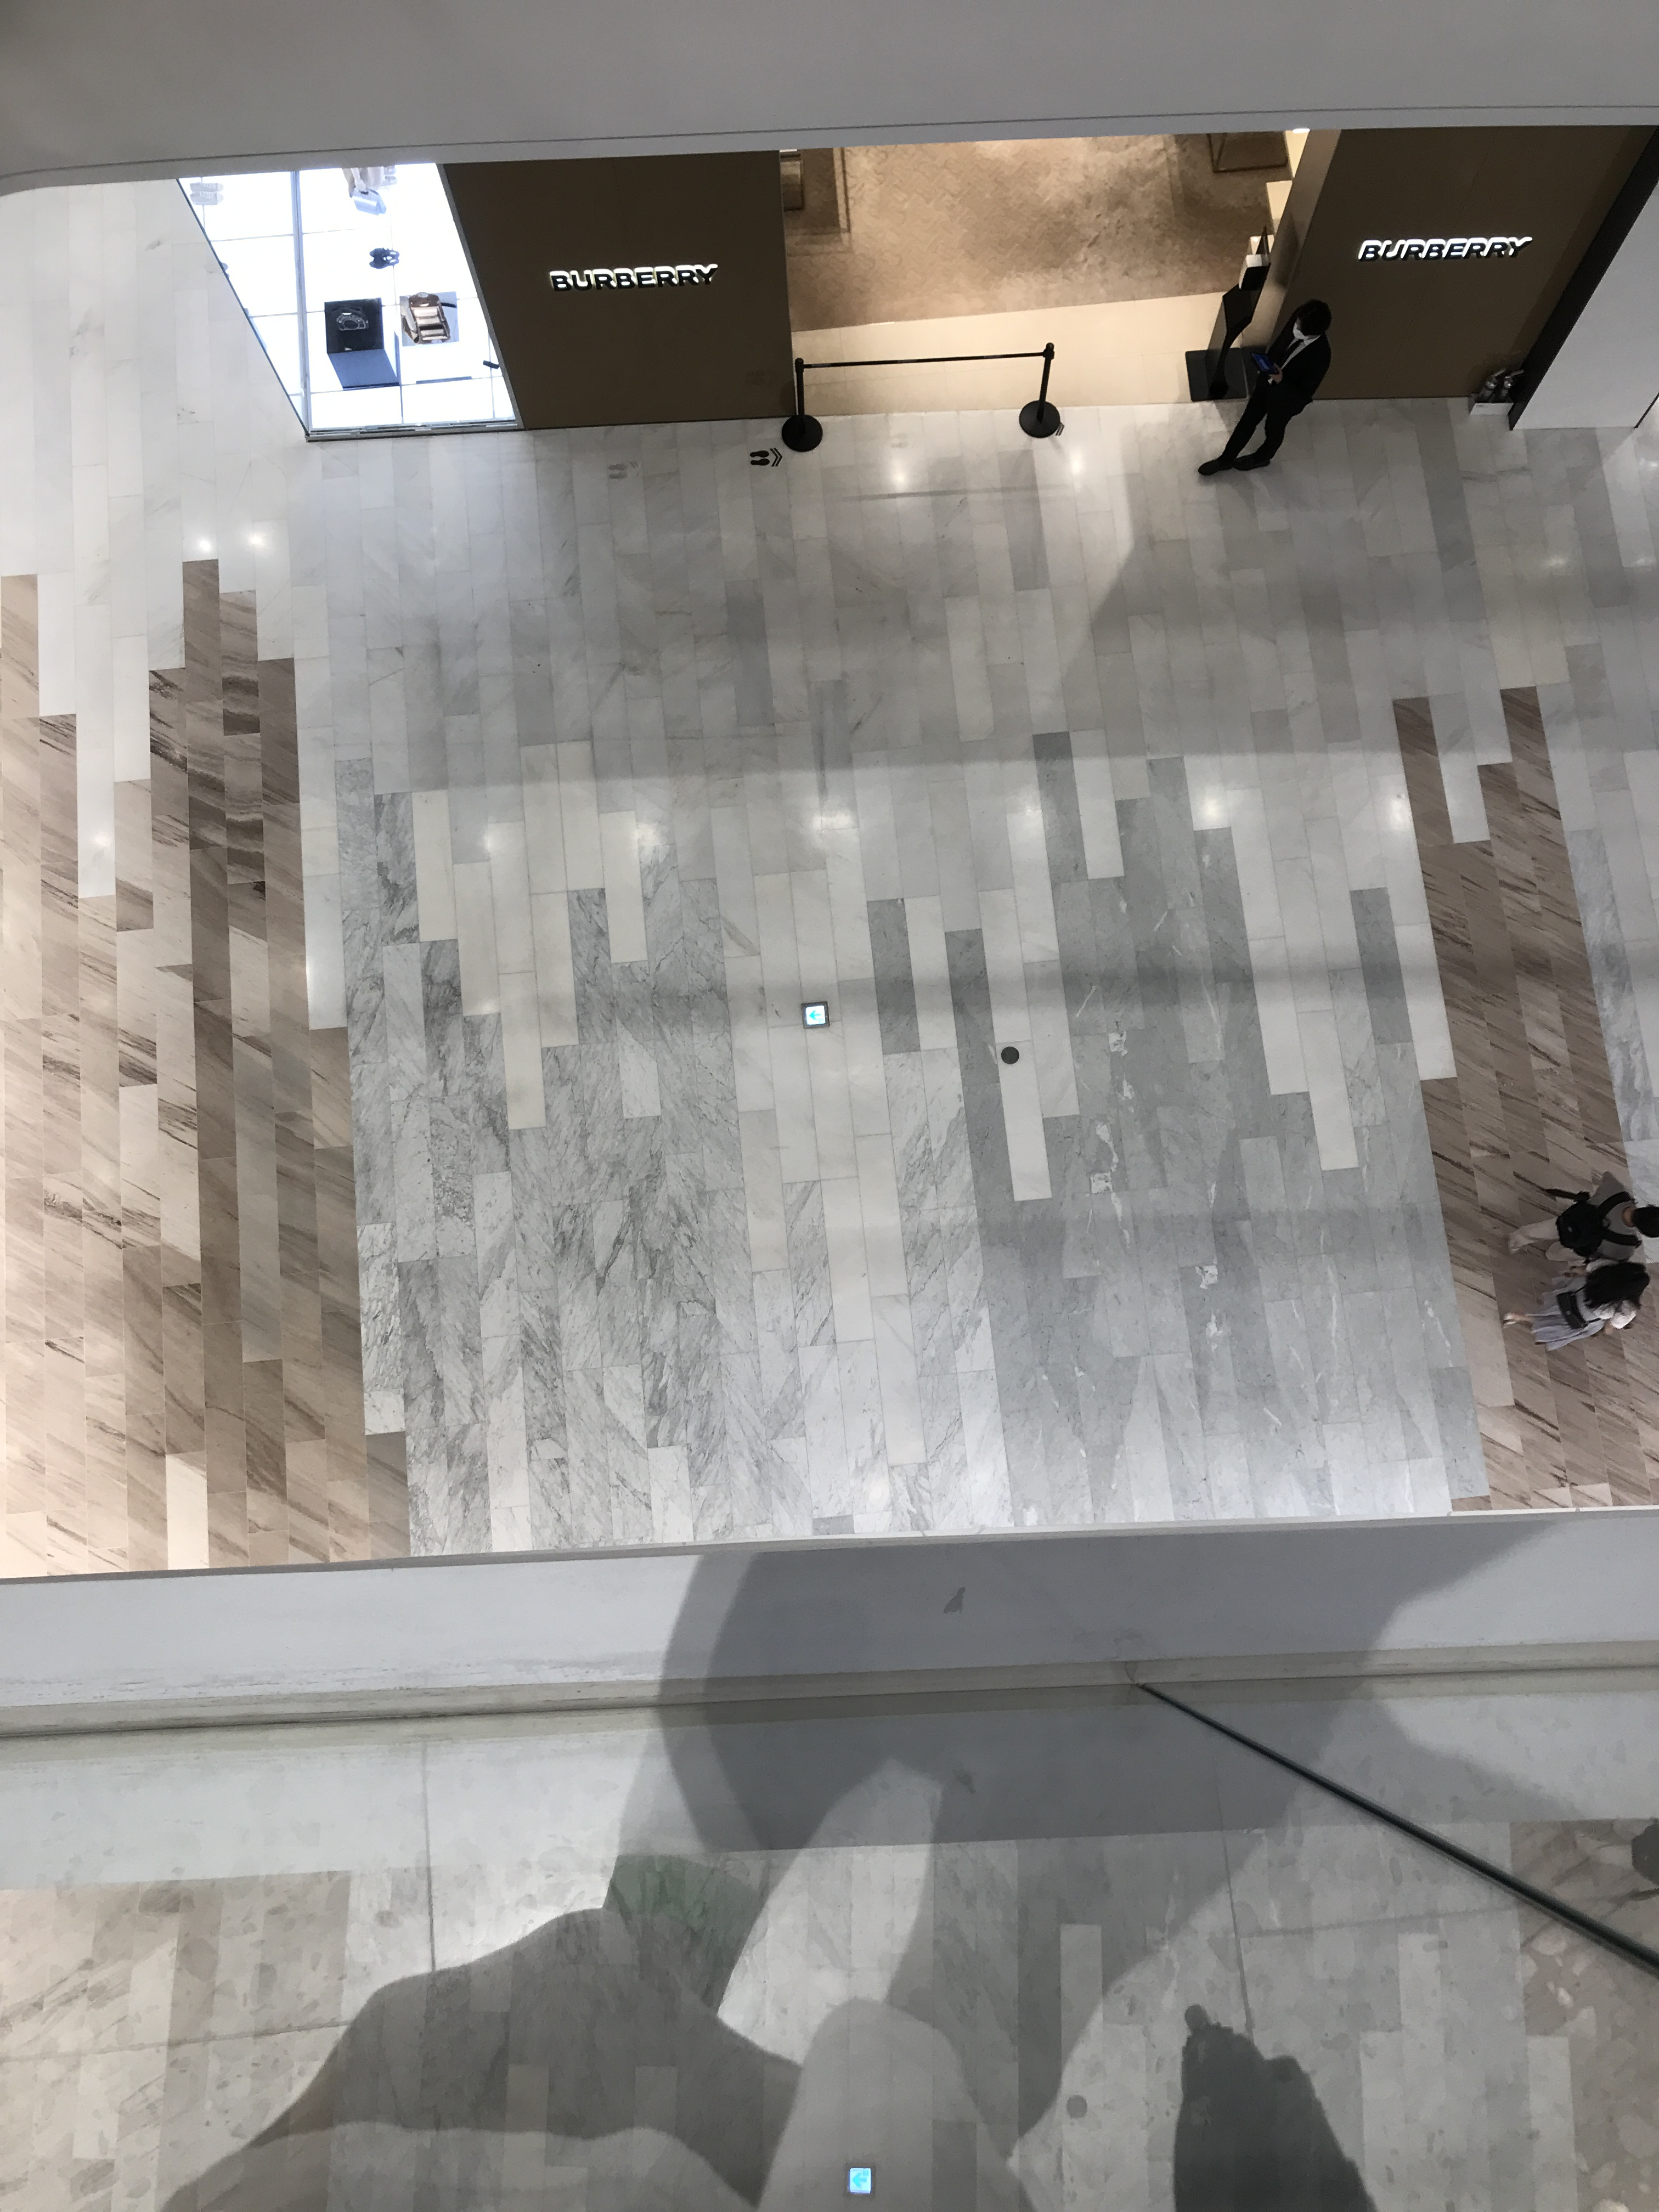person: (1197, 298, 1331, 477), (1505, 1171, 1659, 1273), (1503, 1255, 1649, 1354)
